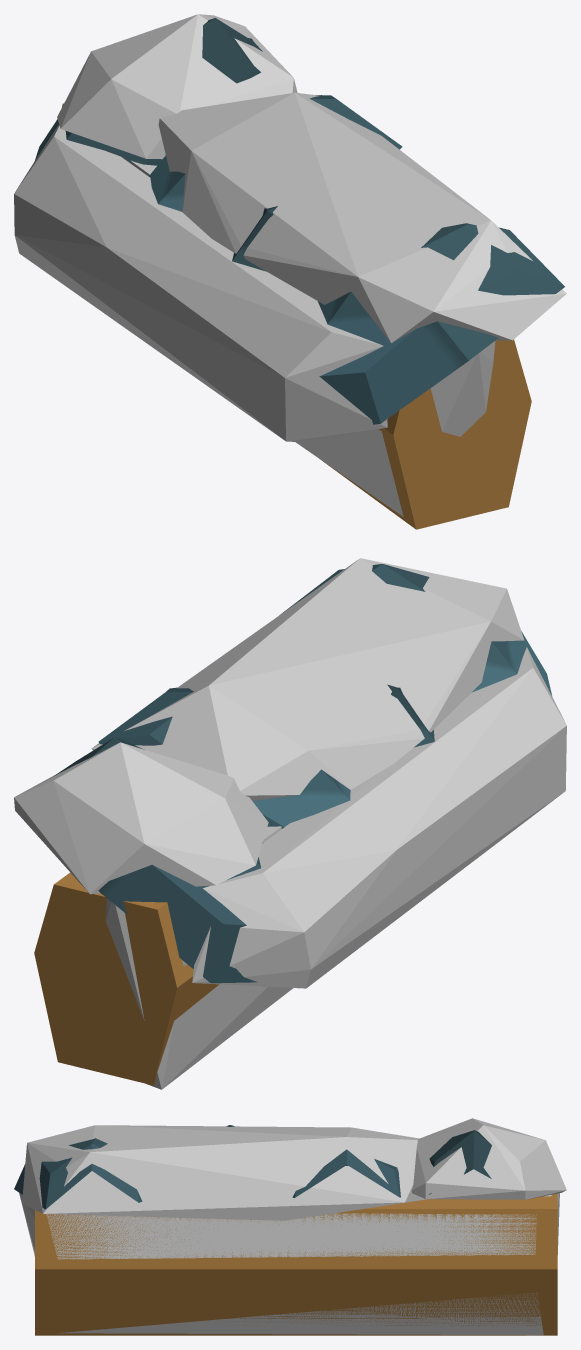
Rendered from SM_Bld_Roof_Trim_Half_02.fbx.
3 renders of one model, top to bottom at view 1: azimuth 30°, elevation 25°; view 2: azimuth 150°, elevation 25°; view 3: azimuth 270°, elevation 25°, orthographic. The views are drawn at different scales.
Visible parts, largest first — view 1: SM_Bld_Roof_Trim_Half_02_ConvexHulls, SM_Bld_Roof_Trim_Half_02; view 2: SM_Bld_Roof_Trim_Half_02_ConvexHulls, SM_Bld_Roof_Trim_Half_02; view 3: SM_Bld_Roof_Trim_Half_02_ConvexHulls, SM_Bld_Roof_Trim_Half_02.
Boxes of the visible parts, x1,y1,x2,y2 form: SM_Bld_Roof_Trim_Half_02_ConvexHulls: (14, 14, 566, 516); SM_Bld_Roof_Trim_Half_02: (35, 18, 564, 529); SM_Bld_Roof_Trim_Half_02_ConvexHulls: (14, 558, 566, 1089); SM_Bld_Roof_Trim_Half_02: (34, 564, 551, 1085); SM_Bld_Roof_Trim_Half_02_ConvexHulls: (19, 1118, 566, 1335); SM_Bld_Roof_Trim_Half_02: (14, 1125, 557, 1335).
Size of the model in its own units: 54.64 by 132 by 55.12.
2 materials, 1 textured.
